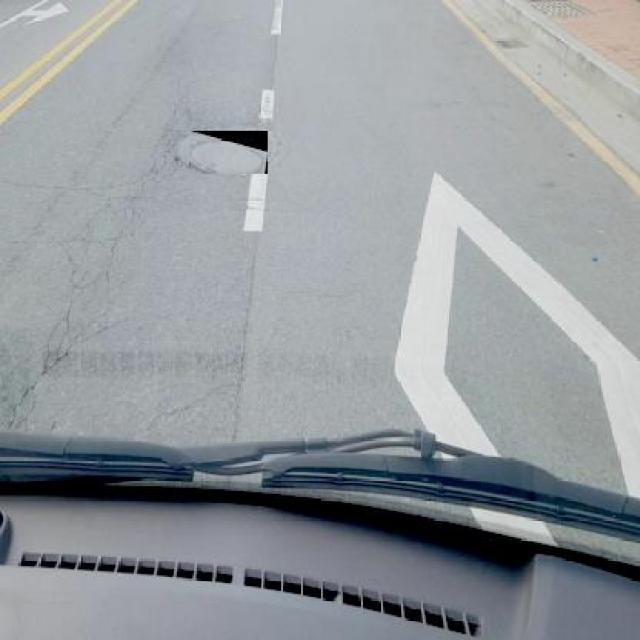Manhole: (189, 131, 268, 174), (530, 0, 594, 19), (486, 34, 530, 51)
